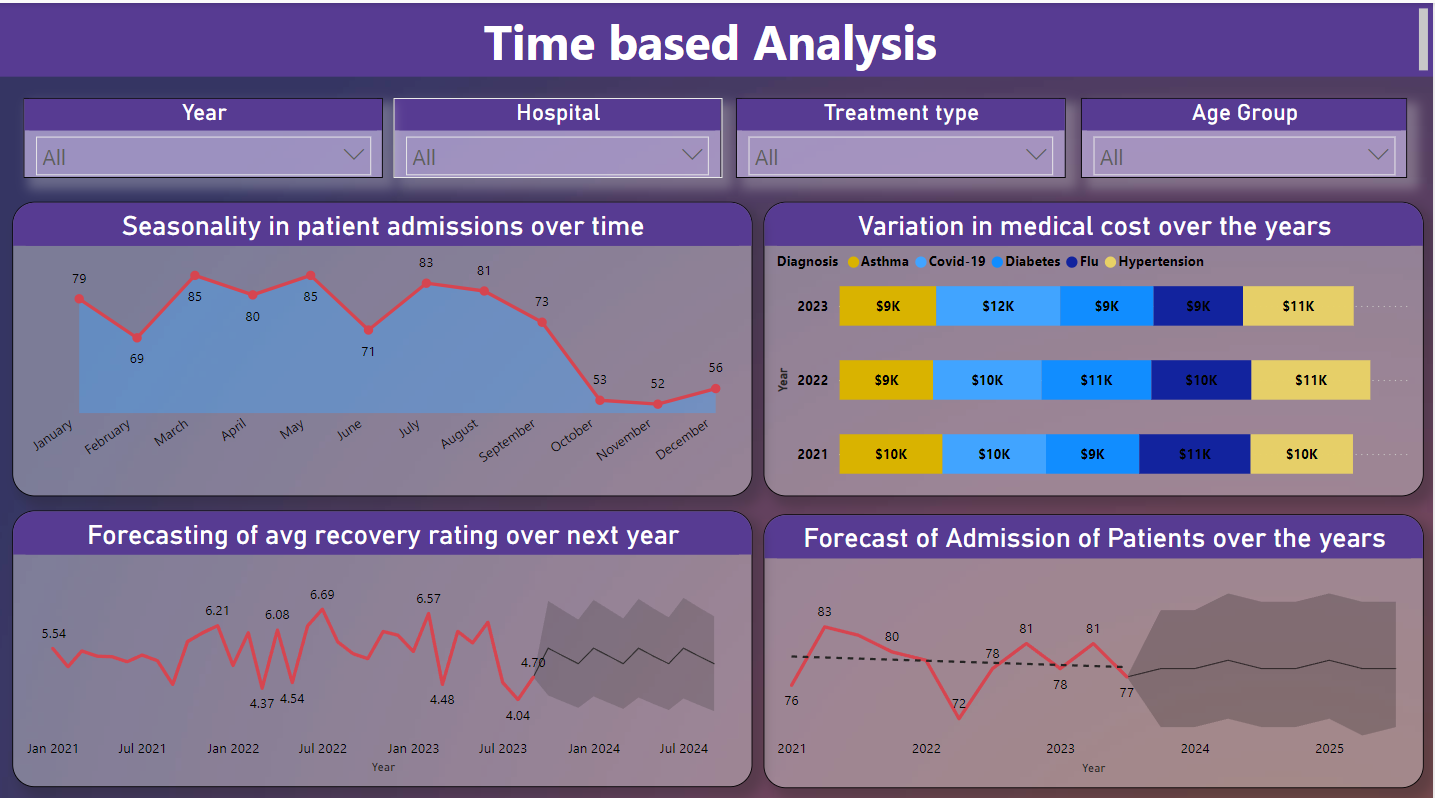

What the dashboard file says about the page in this screenshot:
{"tool":"powerbi","page":{"name":"Time Based analysis","canvas":[1280,720],"ordinal":2},"visuals":[{"type":"lineChart","title":"Forecast of Admission of Patients over the years ","fields":{"Y":["CountNonNull(overall_data.PatientID)"],"Category":["overall_data.AdmissionDate.Variation.Date Hierarchy.Year","overall_data.AdmissionDate.Variation.Date Hierarchy.Quarter"]},"box":[683.1,455,588.2,243.8],"z":1},{"type":"barChart","title":"Variation in medical cost over the years","fields":{"Category":["overall_data.AdmissionDate.Variation.Date Hierarchy.Year"],"Y":["Avg(overall_data.TotalBill)"],"Series":["overall_data.Diagnosis"]},"box":[683.1,177.2,588.2,262.2],"z":2},{"type":"lineChart","title":"Seasonality in patient admissions over time","fields":{"Y":["CountNonNull(overall_data.PatientID)"],"Category":["overall_data.AdmissionDate.Variation.Date Hierarchy.Month"]},"box":[14.2,177.2,659.1,262.2],"z":3},{"type":"lineChart","title":"Forecasting of avg recovery rating over next year","fields":{"Y":["Avg(overall_data.RecoveryRating)"],"Category":["overall_data.DischargeDate.Variation.Date Hierarchy.Year","overall_data.DischargeDate.Variation.Date Hierarchy.Month"]},"box":[14.2,452.1,659.1,246.6],"z":4},{"type":"slicer","title":"Hospital","fields":{"Values":["overall_data.Hospital"]},"box":[354.3,85,292,70.9],"z":5},{"type":"slicer","title":"Treatment type","fields":{"Values":["overall_data.TreatmentType"]},"box":[659.1,85,293.4,70.9],"z":6},{"type":"slicer","title":"Age Group","fields":{"Values":["overall_data.AgeGroup"]},"box":[966.6,85,290.6,70.9],"z":7},{"type":"actionButton","box":[0,0,100,40],"z":8},{"type":"slicer","title":"Year","fields":{"Values":["overall_data.AdmissionDate.Variation.Date Hierarchy.Year"]},"box":[24.1,85,320.3,70.9],"z":9},{"type":"textbox","box":[24.1,0,1243,65.2],"z":10}]}

Visuals, with their boxes in screenshot pixels (x1, y1, x2, y2), scaled from the page's 1280x720 canvas onto the 1435x798 screenshot:
"Forecast of Admission of Patients over the years " lineChart: crop(766, 504, 1425, 775)
"Variation in medical cost over the years" barChart: crop(766, 196, 1425, 487)
"Seasonality in patient admissions over time" lineChart: crop(16, 196, 755, 487)
"Forecasting of avg recovery rating over next year" lineChart: crop(16, 501, 755, 774)
"Hospital" slicer: crop(397, 94, 725, 173)
"Treatment type" slicer: crop(739, 94, 1068, 173)
"Age Group" slicer: crop(1084, 94, 1409, 173)
actionButton: crop(0, 0, 112, 44)
"Year" slicer: crop(27, 94, 386, 173)
textbox: crop(27, 0, 1421, 72)
